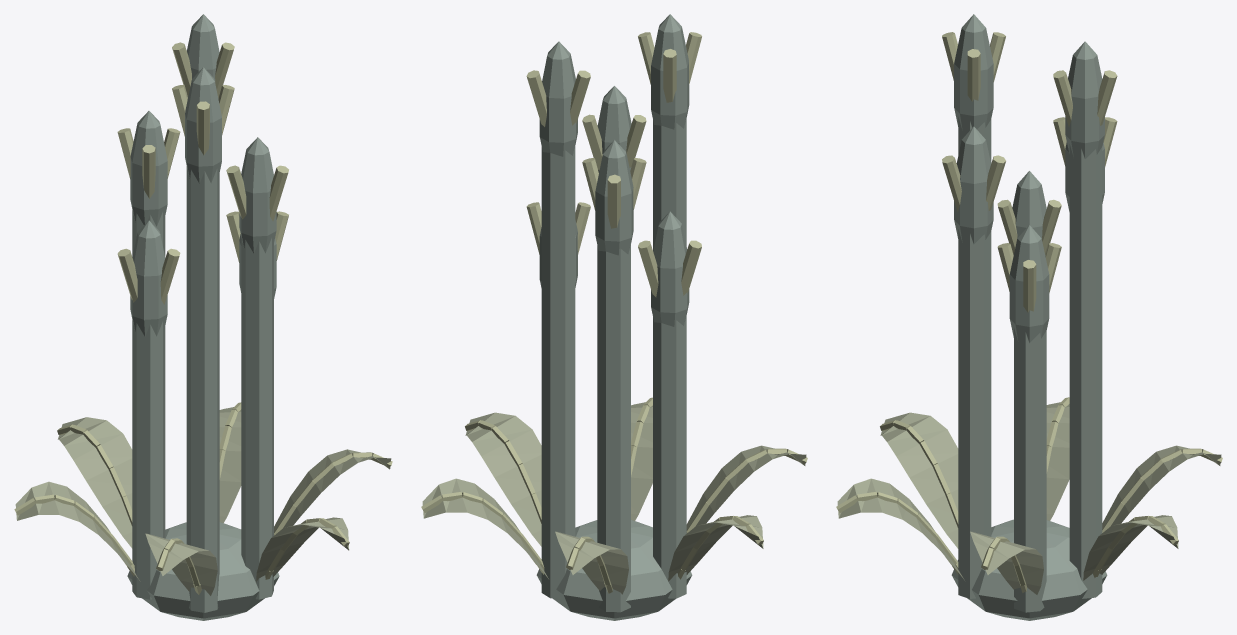
File: mineralreed-weakened.glb
3 renders of one model, left to right at view 1: azimuth 30°, elevation 25°; view 2: azimuth 150°, elevation 25°; view 3: azimuth 270°, elevation 25°, orthographic. The views are drawn at different scales.
Parts seen in each view (by area): view 1: mineralreed.sway-pivot; view 2: mineralreed.sway-pivot; view 3: mineralreed.sway-pivot.
Boxes of the visible parts, bbox=[...] form: mineralreed.sway-pivot: bbox=[14, 14, 392, 620]; mineralreed.sway-pivot: bbox=[421, 14, 807, 620]; mineralreed.sway-pivot: bbox=[836, 14, 1222, 620].
Bounding box in the file's own units: 0.5988 × 0.975 × 0.5873.
